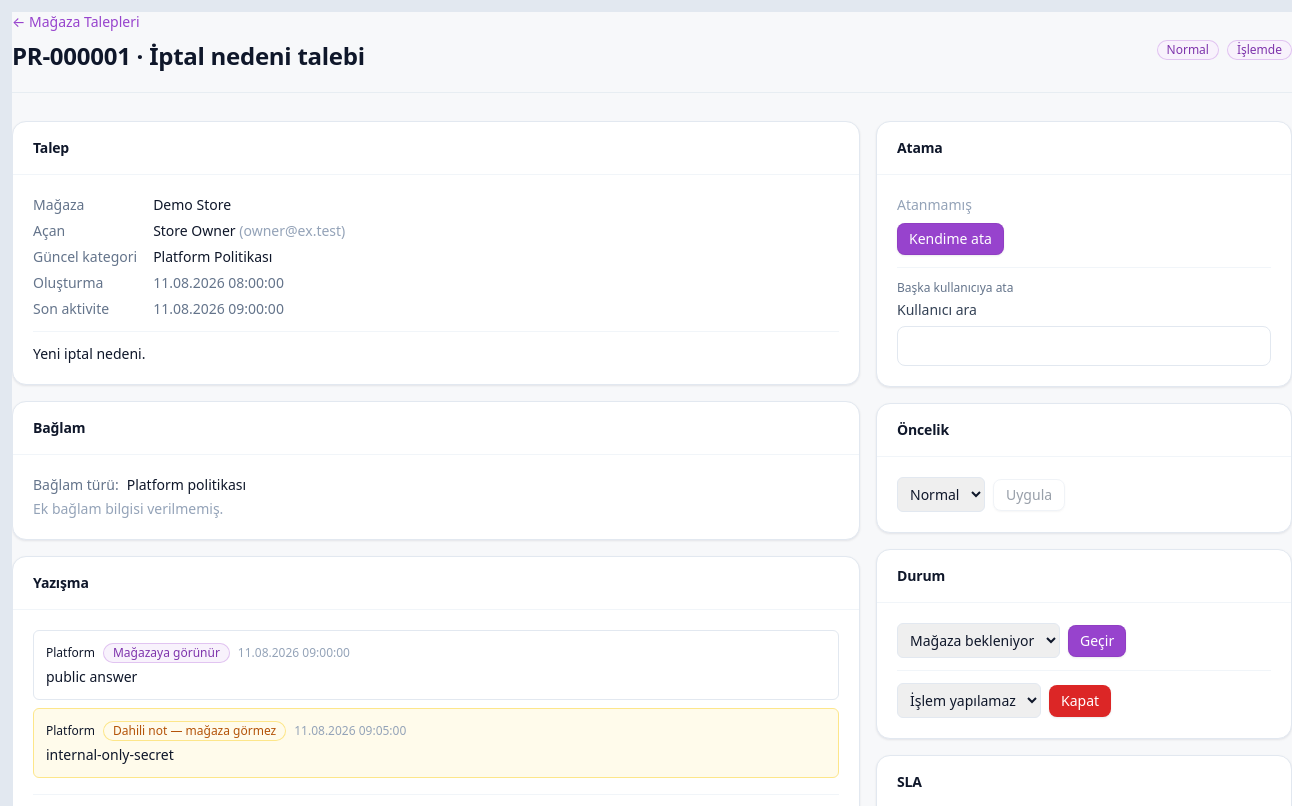
Test case: TODO-178 detail: internal vs visible distinction + actions › TD-178-6: searching + picking a user assigns them (id sent, expectedVersion, name shown)
Type "ada" into the field labelled "Kullanıcı ara" at {"x": 1084, "y": 346}, box [897, 326, 1271, 366]
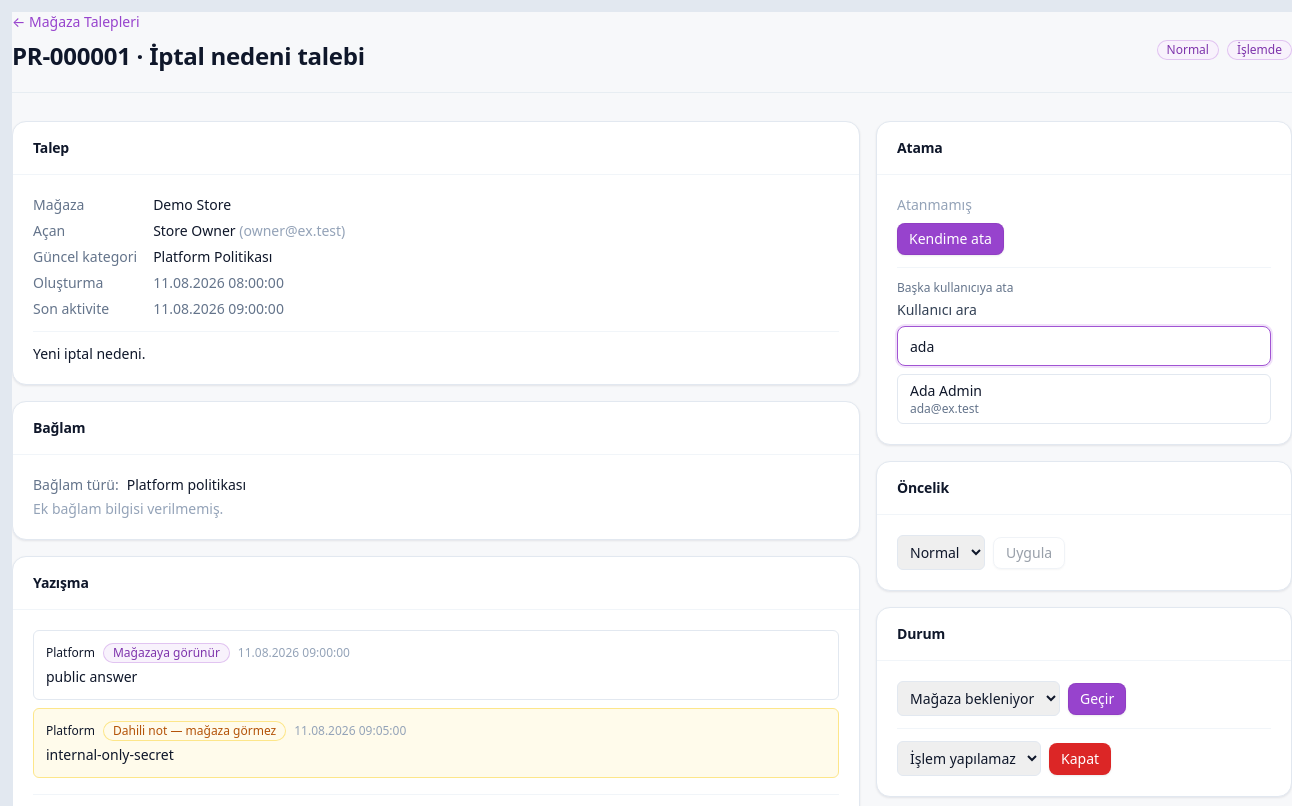
Click the text "ada@ex.test" at {"x": 944, "y": 409}, box [910, 401, 979, 417]
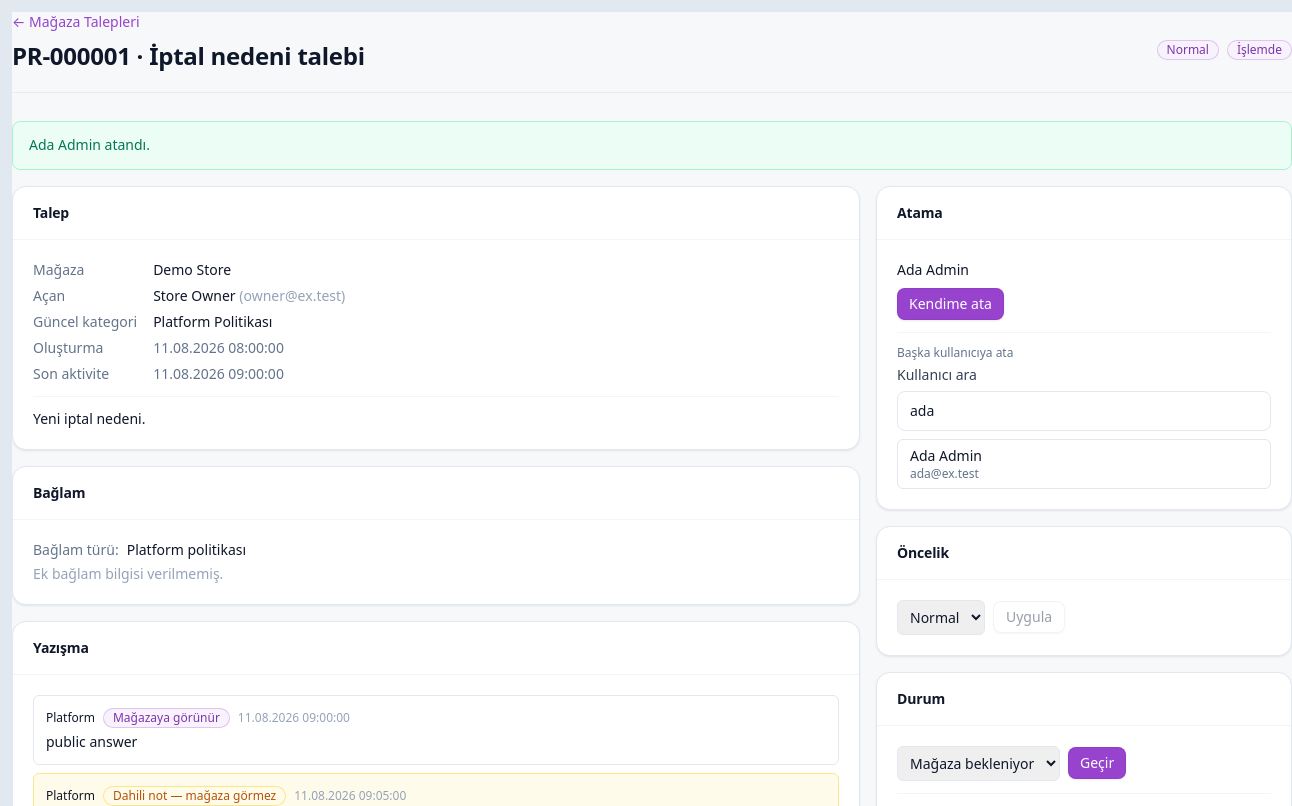
Check: the 1st text "Ada Admin" is shown, box [897, 260, 969, 279]
